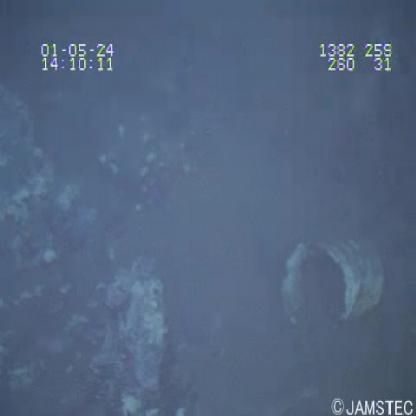Rác: (278, 226, 389, 336)
